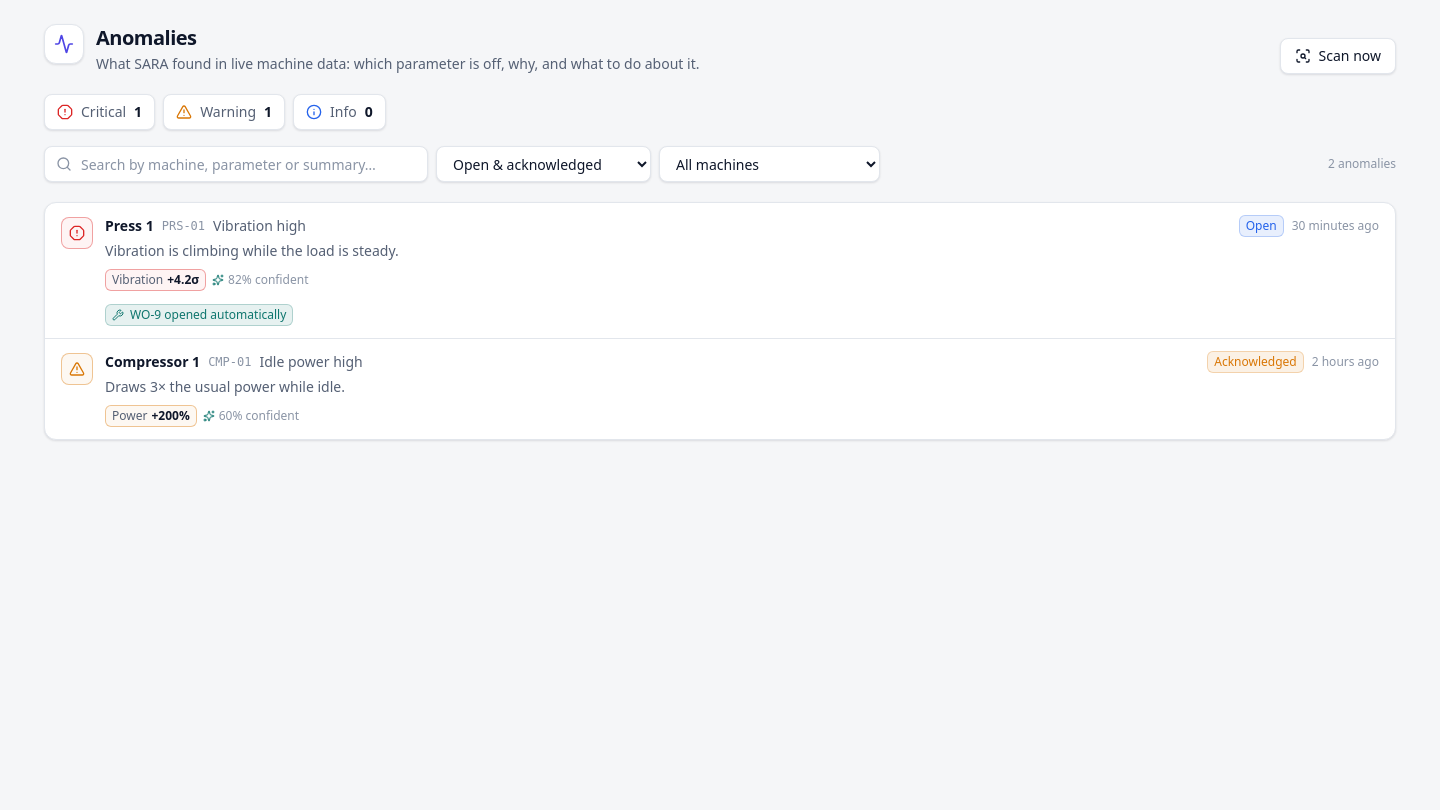
Test: Anomalies page › lists anomalies with severity chips, filters them and scans on demand
Check: the number of list items is 2, box [45,203,1395,339]; [45,339,1395,439]
Check: the text "Press 1" is shown, box [105,216,154,236]
Click the button "Warning 1" at (224, 112), box [163,94,285,130]
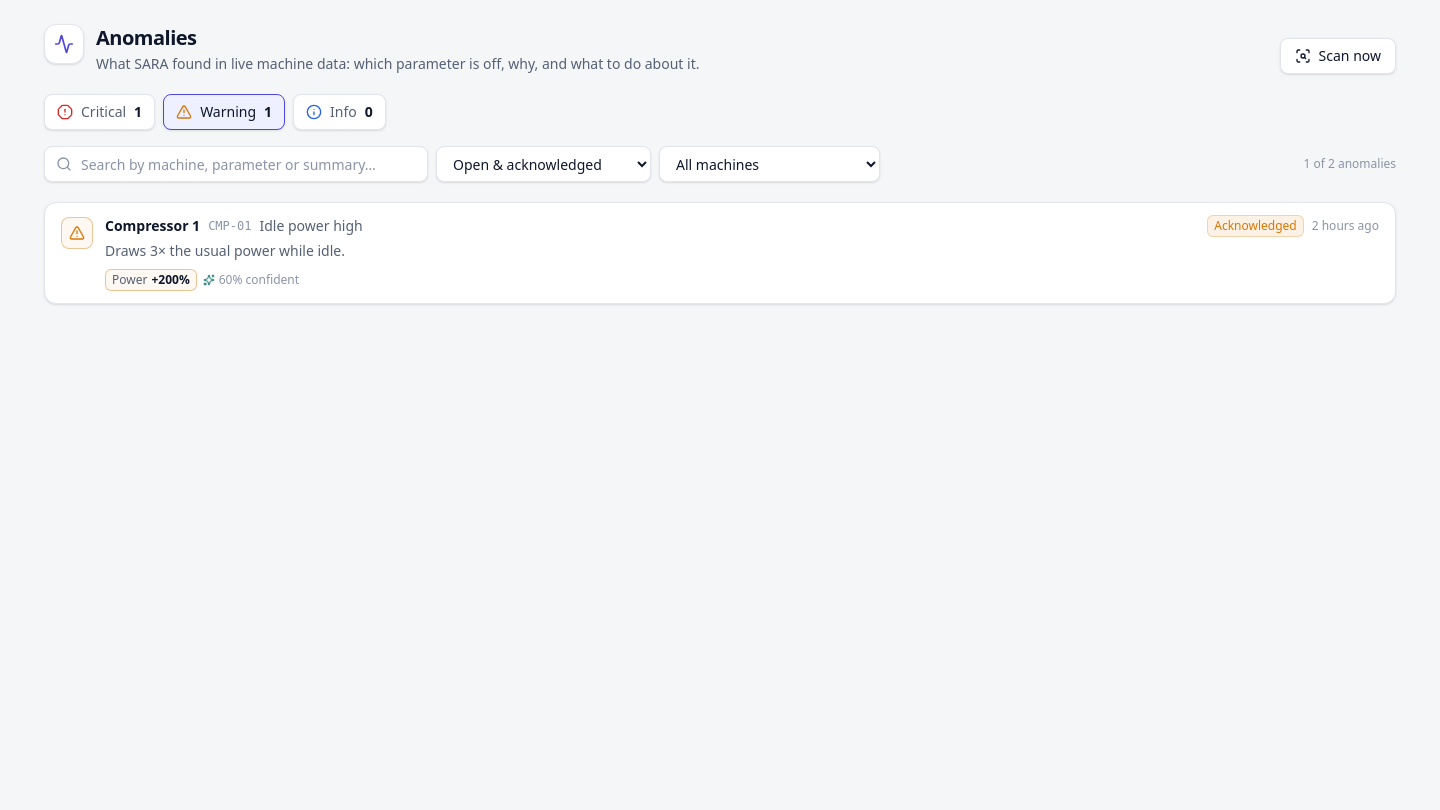
Check: the text "Compressor 1" is shown, box [105,216,200,236]
Check: the number of list items is 1, box [45,203,1395,303]
Click the button "Warning 1" at (224, 112), box [163,94,285,130]
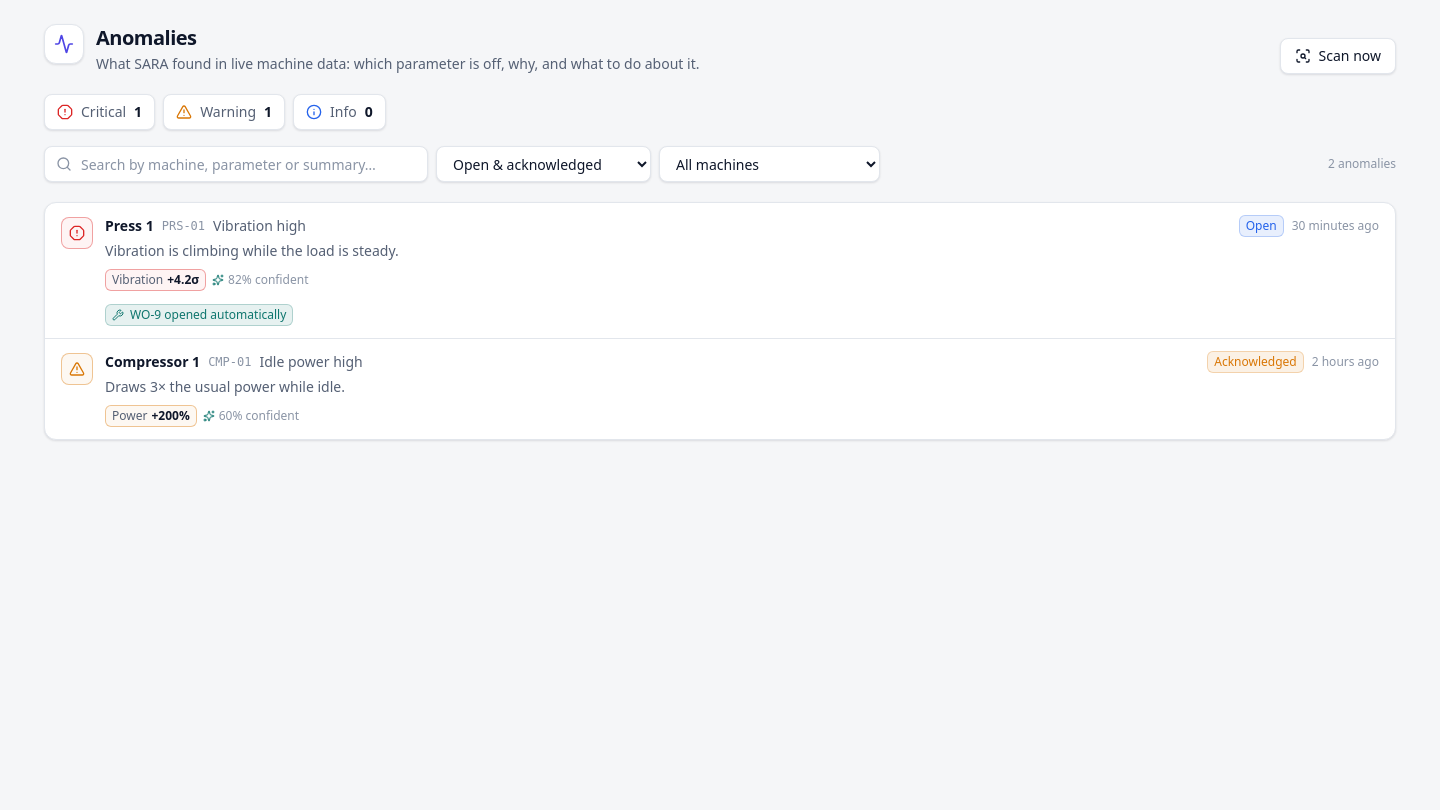
Type "bearing" into the search field named "Search anomalies" at (236, 164), box [44,146,428,182]
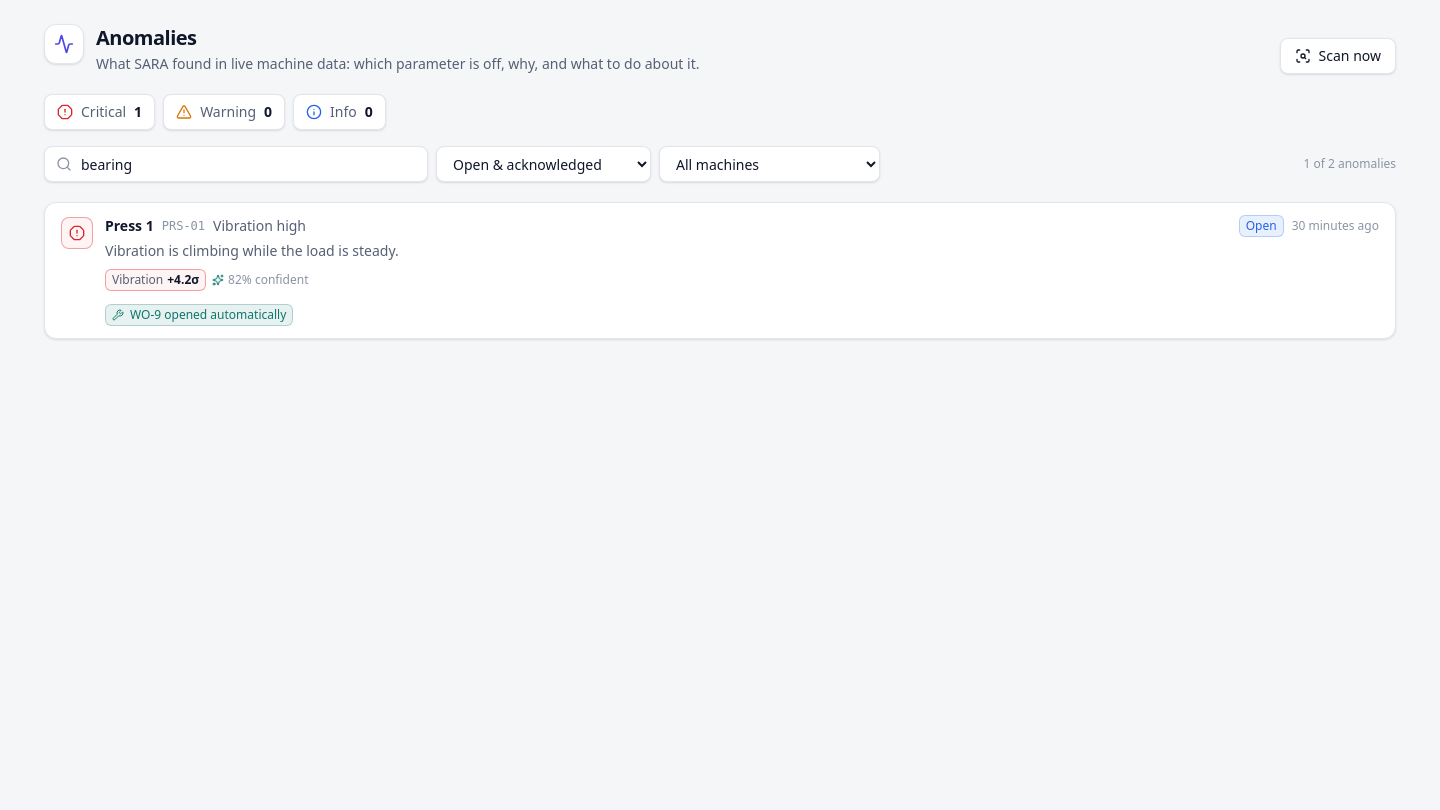
Check: the number of list items is 1, box [45,203,1395,338]
Replace the text in the search field named "Search anomalies" with "nothing here" at (236, 164), box [44,146,428,182]
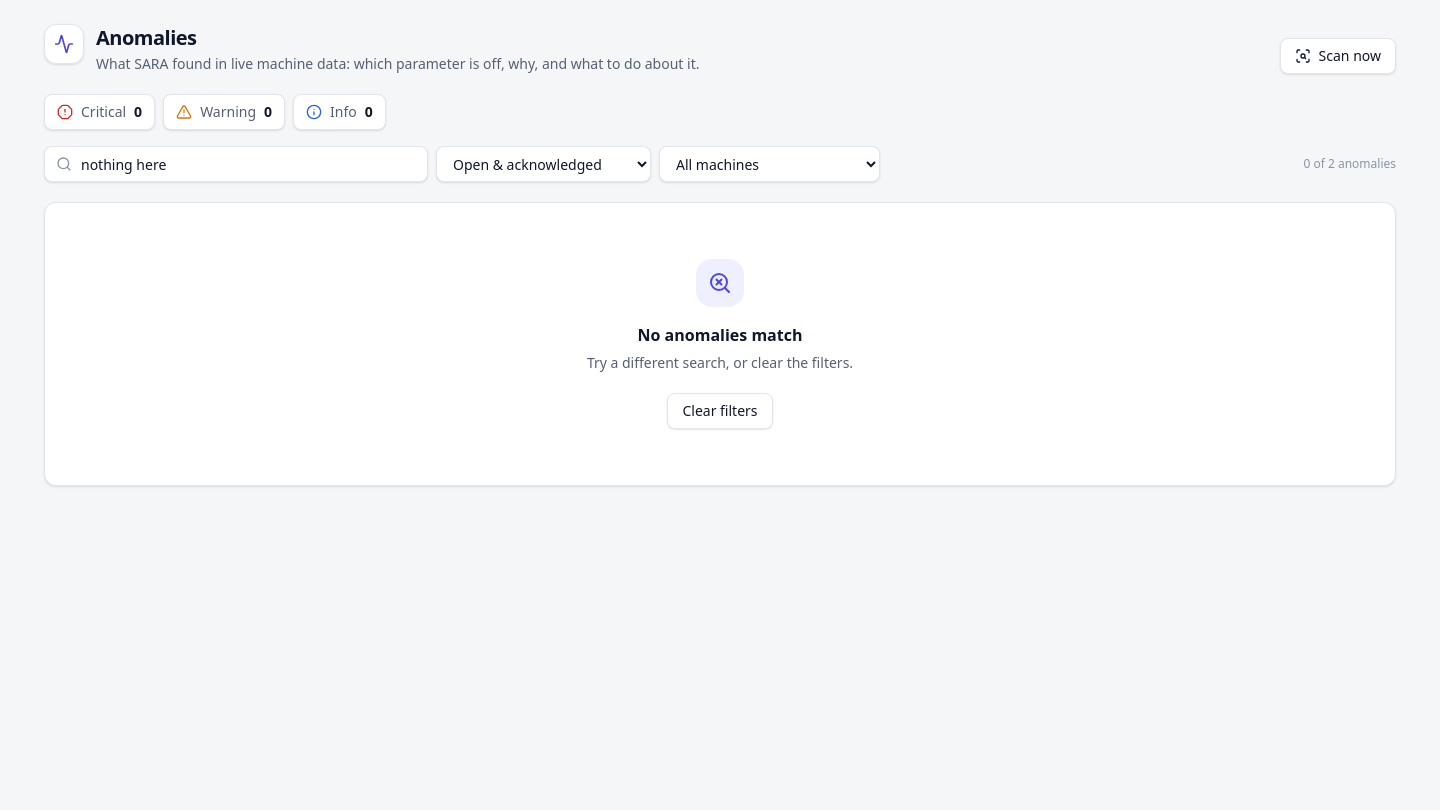
Check: the heading "No anomalies match" is shown, box [638,323,802,347]
Click the button "Clear filters" at (720, 411), box [667,393,772,429]
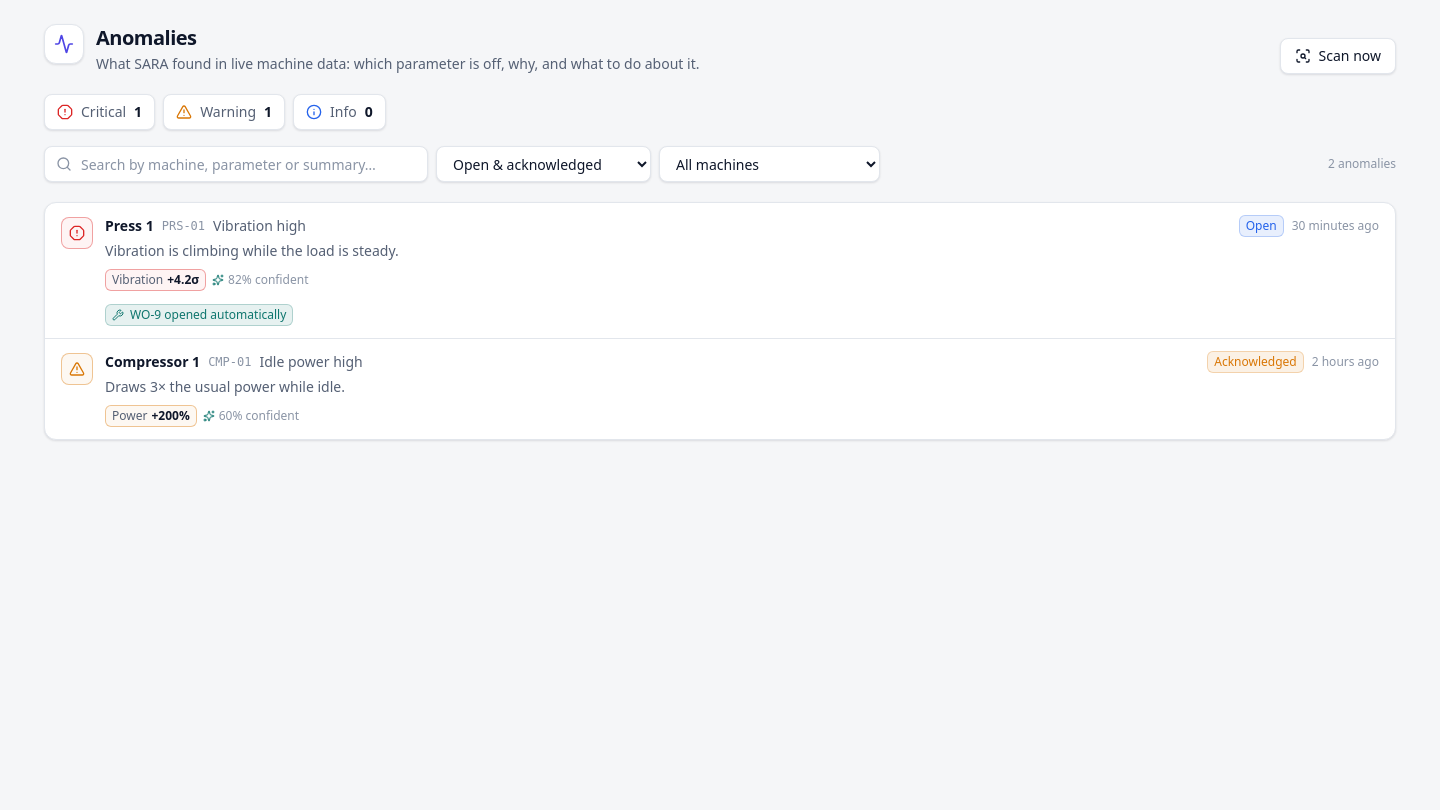
Click the button "Scan now" at (1338, 56), box [1280,38,1396,74]
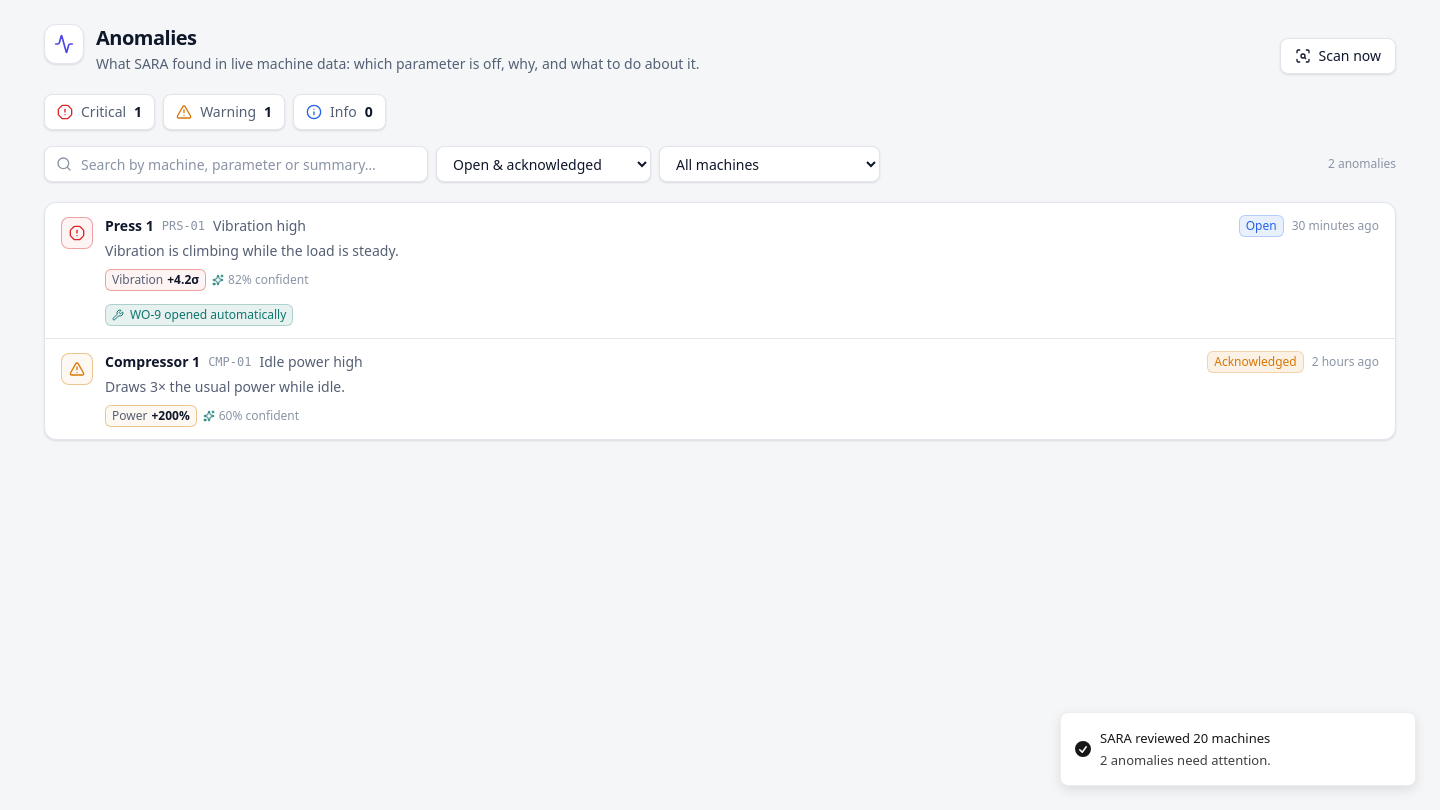
Check: the text "SARA reviewed 20 machines" is shown, box [1100,729,1271,749]
